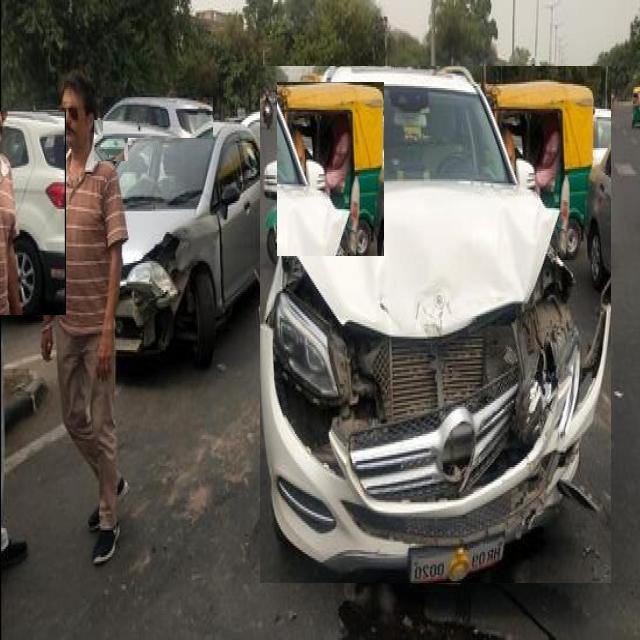accident: (260, 67, 611, 583), (115, 125, 284, 366)
autorickshaw: (277, 82, 384, 256), (551, 76, 587, 168)
car: (0, 111, 66, 315), (104, 98, 213, 138), (95, 120, 128, 161)
motorcycle: (597, 96, 609, 130)
